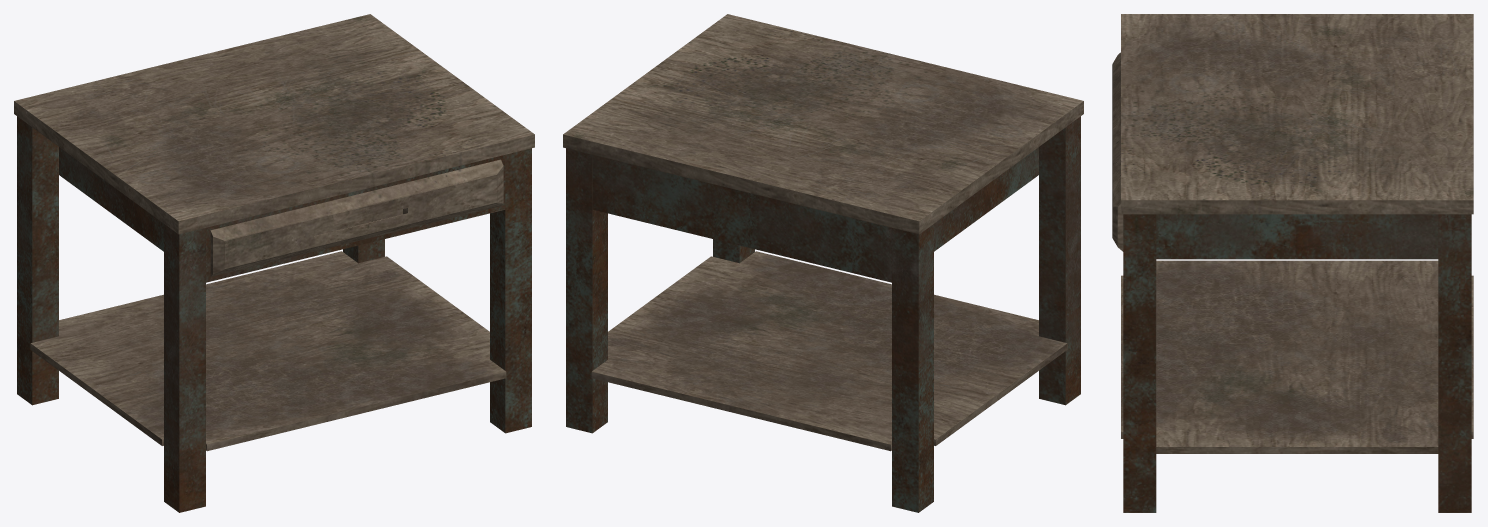
Rendered from stol.glb.
3 renders of one model, left to right at view 1: azimuth 30°, elevation 25°; view 2: azimuth 150°, elevation 25°; view 3: azimuth 270°, elevation 25°, orthographic. The views are drawn at different scales.
Parts seen in each view (by area): view 1: Solid4; view 2: Solid4; view 3: Solid4.
Part boxes in pixels (<box>): Solid4: <box>14,14,534,512</box>; Solid4: <box>563,14,1083,512</box>; Solid4: <box>1112,14,1473,512</box>.
Bounding box in the file's own units: 2 × 1.57 × 1.64.
1 material, 1 textured.
